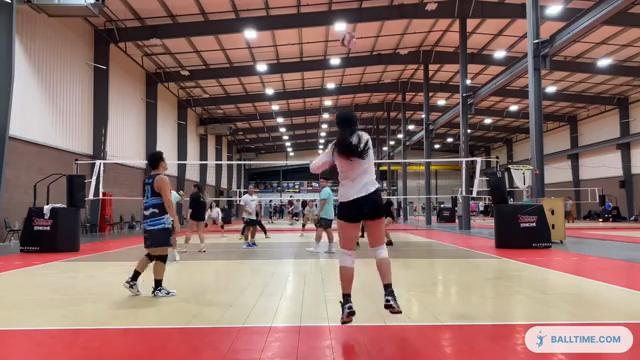Player: (124, 151, 179, 296), (306, 178, 334, 253), (179, 184, 206, 251), (241, 186, 258, 247), (384, 199, 396, 246), (209, 202, 225, 236), (300, 200, 315, 236), (169, 231, 179, 260)
Serve: (306, 107, 411, 325)
ball: (339, 33, 357, 52)
